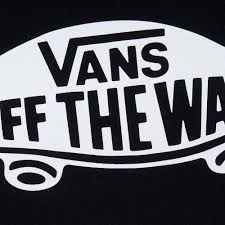vans: (37, 28, 167, 88)
